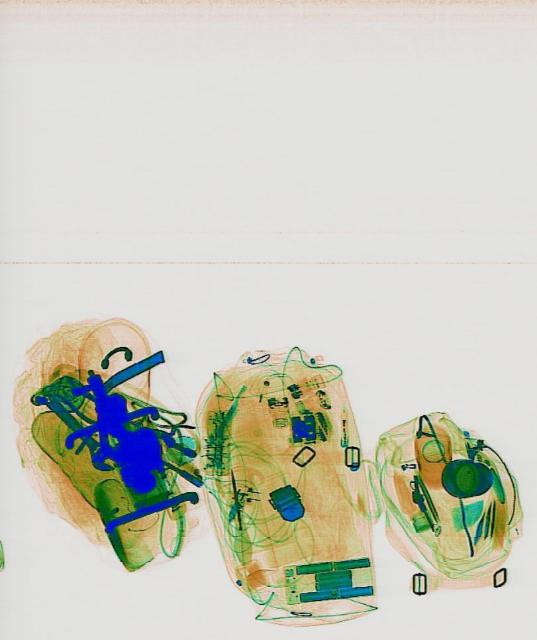Wrench: (32, 381, 124, 479)
